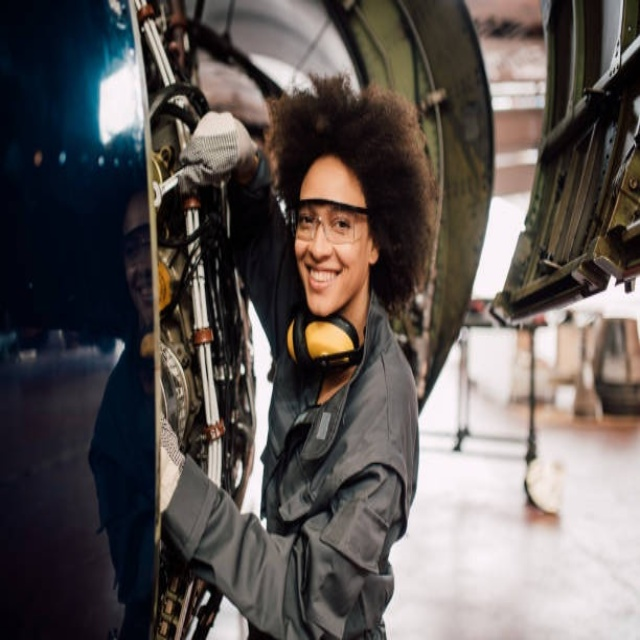Gafas: (290, 205, 372, 245)
Guantes: (175, 110, 258, 191)
Sin_mascara: (302, 257, 345, 304)
